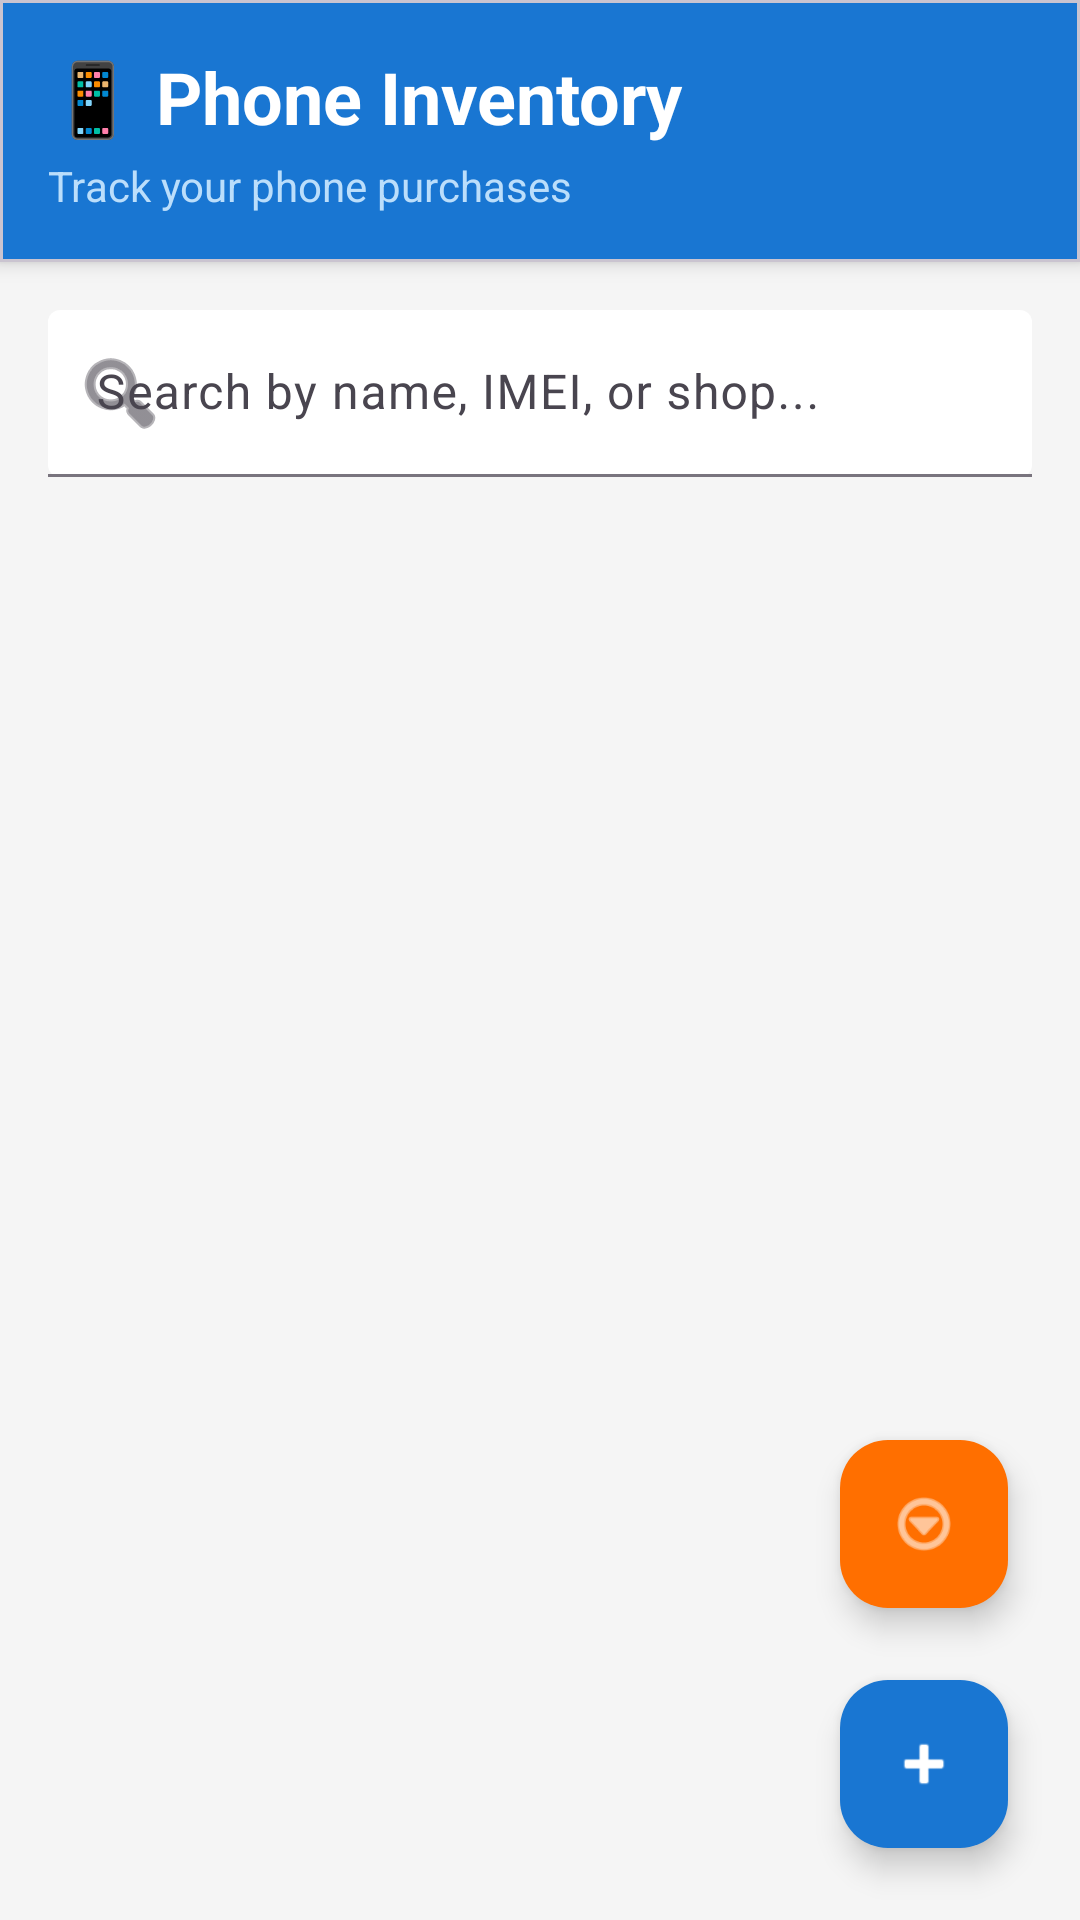

Named icons in this screenshot (1080w x 1920h) and their centers, point (x, y):
Add Phone: point (924, 1764)
